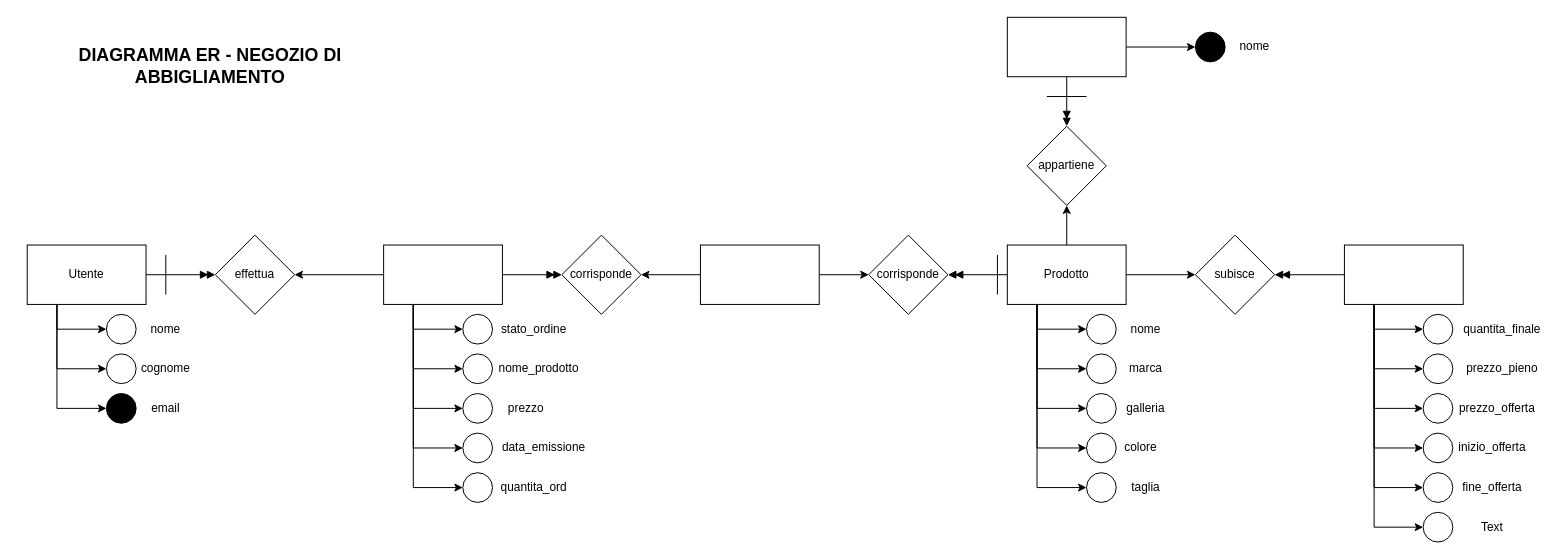
The diagram is 1558 pixels wide and 559 high, and some of its shapes have lost their labels. Here are the shapes that lost their labels. From the top down, the centre of each, then its label:
At (x=1066, y=46): "Categoria".
At (x=442, y=274): "Ordine".
At (x=759, y=274): "Ordine_Prodotto".
At (x=1403, y=274): "Variazione".
